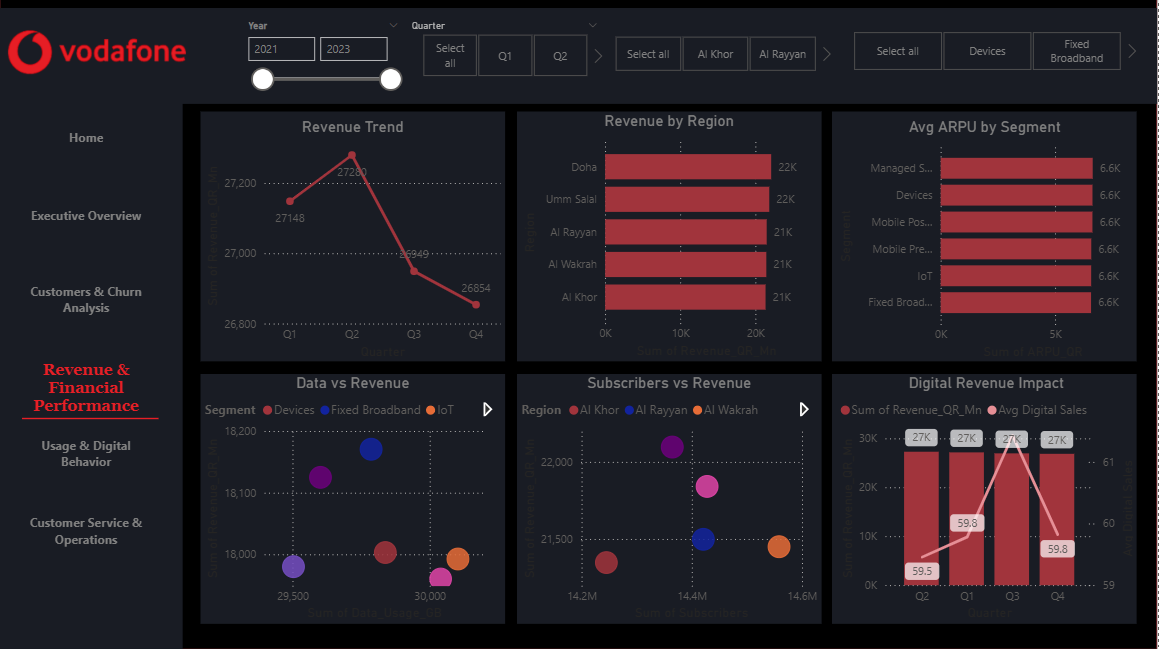

What the dashboard file says about the page in this screenshot:
{"tool":"powerbi","page":{"name":"Revenue & Financial Performance","canvas":[1280,720],"ordinal":3},"visuals":[{"type":"shape","box":[1.6,0.4,1278.4,719.6],"z":0},{"type":"shape","box":[1.6,10,1278.4,105.9],"z":1000},{"type":"shape","box":[0,82.4,203.9,637.3],"z":2000},{"type":"image","box":[0,0,227.5,119.6],"z":3000},{"type":"shape","box":[223,124.7,336.4,275.9],"z":4000},{"type":"pageNavigator","box":[25.9,133.4,151.4,501.9],"z":5000},{"type":"shape","box":[223,413.9,336.4,275.9],"z":6000},{"type":"shape","box":[573.2,124.6,336.4,275.9],"z":7000},{"type":"shape","box":[573.2,413.8,336.4,275.9],"z":8000},{"type":"shape","box":[920.8,124.6,336.4,275.9],"z":9000},{"type":"shape","box":[920.8,413.7,336.4,275.9],"z":10000},{"type":"slicer","fields":{"Values":["Vodafone qatar dataset.Year"]},"box":[262.7,18.9,190.9,85],"z":11000},{"type":"slicer","fields":{"Values":["Vodafone qatar dataset.Quarter"]},"box":[444.1,18.9,230.6,73.7],"z":12000},{"type":"slicer","fields":{"Values":["Vodafone qatar dataset.Region"]},"box":[661.4,39.7,260.8,41.6],"z":13000},{"type":"slicer","fields":{"Values":["Vodafone qatar dataset.Segment"]},"box":[924.3,34.8,334.6,43.1],"z":14000},{"type":"lineChart","title":"Revenue Trend","fields":{"Category":["Vodafone qatar dataset.Quarter"],"Y":["Sum(Vodafone qatar dataset.Revenue_QR_Mn)"]},"box":[223,130.4,336.4,270.2],"z":15000},{"type":"barChart","title":"Revenue by Region","fields":{"Category":["Vodafone qatar dataset.Region"],"Y":["Sum(Vodafone qatar dataset.Revenue_QR_Mn)"]},"box":[572.6,124.7,336.4,275.9],"z":16000},{"type":"barChart","title":"Avg ARPU by Segment","fields":{"Category":["Vodafone qatar dataset.Segment"],"Y":["Sum(Vodafone qatar dataset.ARPU_QR)"]},"box":[922.2,130.4,334.5,270.2],"z":17000},{"type":"scatterChart","title":"Data vs Revenue","fields":{"X":["Sum(Vodafone qatar dataset.Data_Usage_GB)"],"Y":["Sum(Vodafone qatar dataset.Revenue_QR_Mn)"],"Size":["Sum(Vodafone qatar dataset.Subscribers)"],"Series":["Vodafone qatar dataset.Segment"]},"box":[223,413.9,336.4,275.9],"z":18000},{"type":"scatterChart","title":"Subscribers vs Revenue","fields":{"X":["Sum(Vodafone qatar dataset.Subscribers)"],"Y":["Sum(Vodafone qatar dataset.Revenue_QR_Mn)"],"Size":["Sum(Vodafone qatar dataset.Data_Usage_GB)"],"Series":["Vodafone qatar dataset.Region"]},"box":[572.6,413.9,336.4,275.9],"z":19000},{"type":"lineClusteredColumnComboChart","title":"Digital Revenue Impact","fields":{"Category":["Vodafone qatar dataset.Quarter"],"Y":["Sum(Vodafone qatar dataset.Revenue_QR_Mn)"],"Y2":["Vodafone qatar dataset.Avg Digital Sales"]},"box":[924.1,413.9,334.5,275.9],"z":20000}]}

Visuals, with their boxes in screenshot pixels (x1, y1, x2, y2), scaled from the page's 1280x720 canvas onto the 1159x649 screenshot:
shape: 1:0:1158:648
shape: 1:9:1158:104
shape: 0:74:185:648
image: 0:0:206:108
shape: 202:112:507:361
pageNavigator: 23:120:161:573
shape: 202:373:507:622
shape: 519:112:824:361
shape: 519:373:824:622
shape: 834:112:1138:361
shape: 834:373:1138:622
slicer - Vodafone qatar dataset.Year: 238:17:411:94
slicer - Vodafone qatar dataset.Quarter: 402:17:611:83
slicer - Vodafone qatar dataset.Region: 599:36:835:73
slicer - Vodafone qatar dataset.Segment: 837:31:1140:70
"Revenue Trend" lineChart: 202:118:507:361
"Revenue by Region" barChart: 518:112:823:361
"Avg ARPU by Segment" barChart: 835:118:1138:361
"Data vs Revenue" scatterChart: 202:373:507:622
"Subscribers vs Revenue" scatterChart: 518:373:823:622
"Digital Revenue Impact" lineClusteredColumnComboChart: 837:373:1140:622
